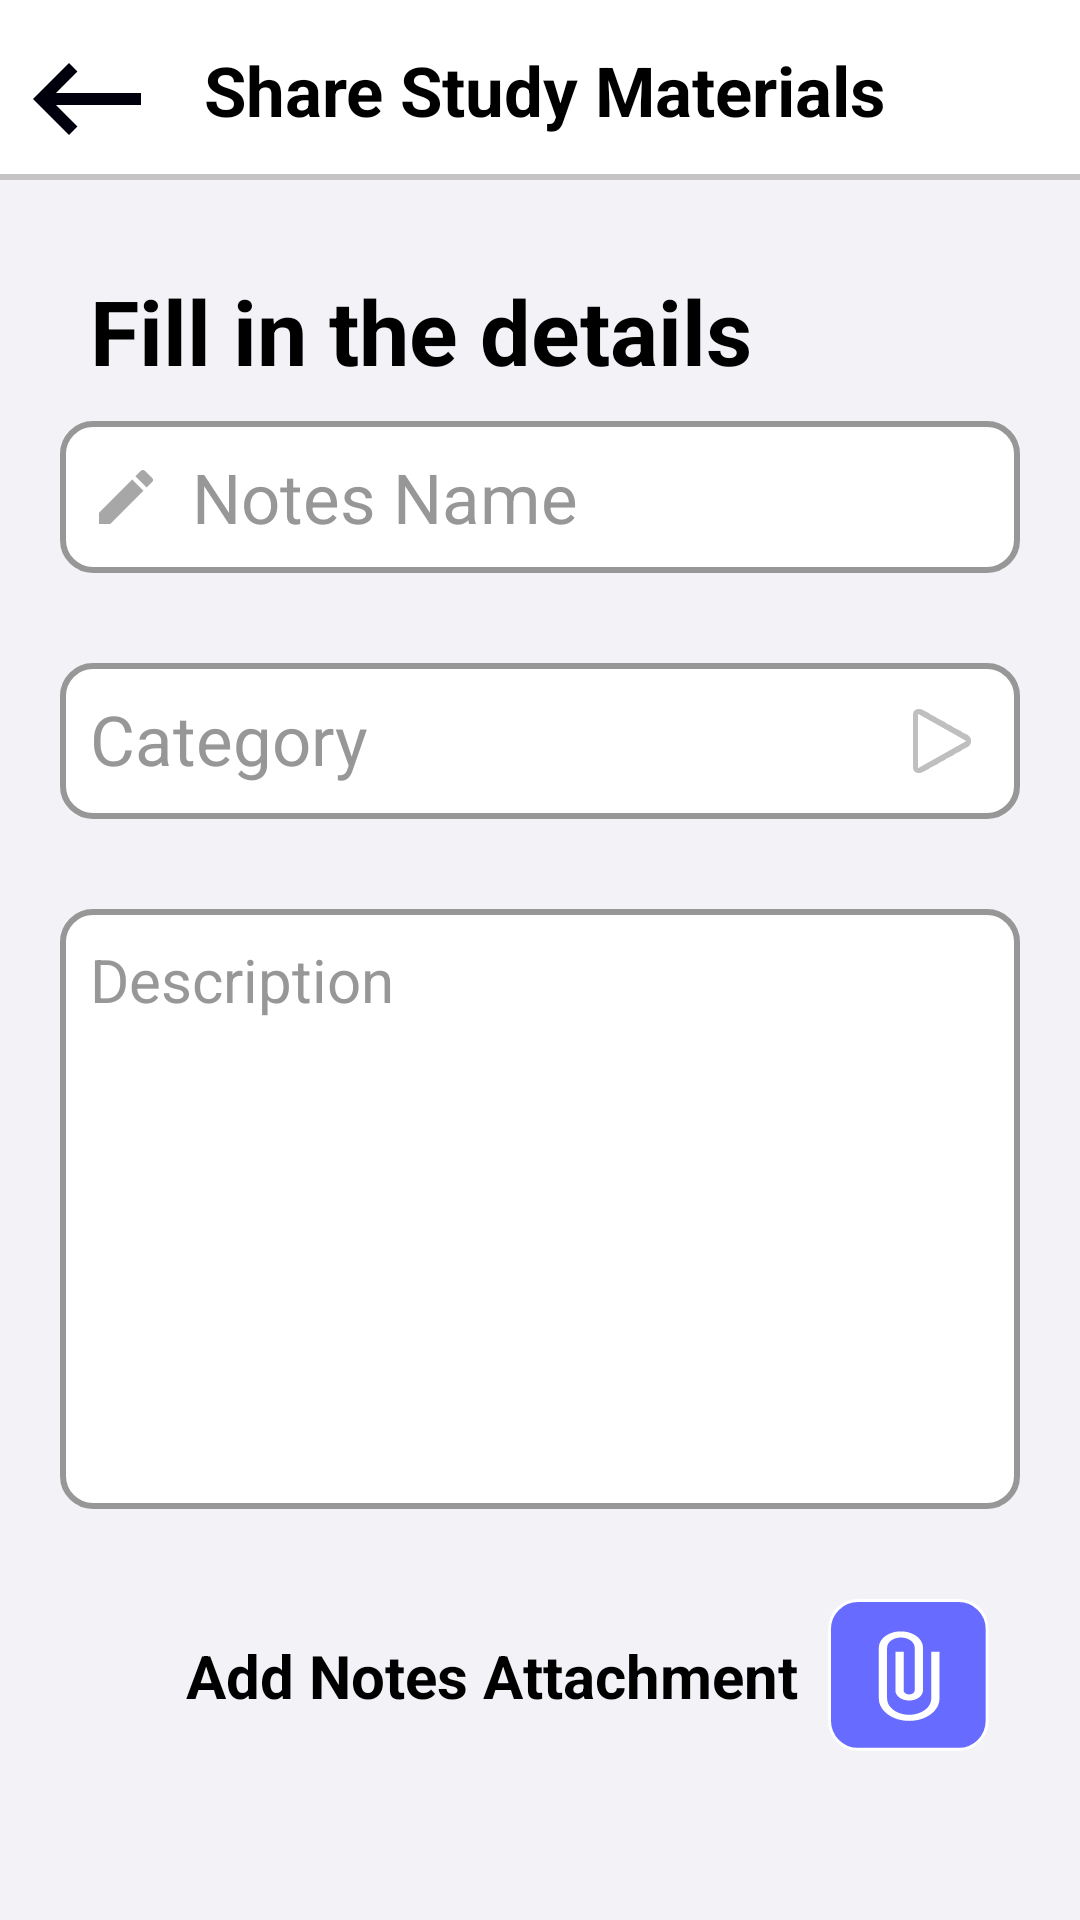

Locate icon controls on the screen. Image size 1080px×1920px, boxes as (x1, y1, x2, y2).
Upload Document: (831, 1602, 986, 1748)
